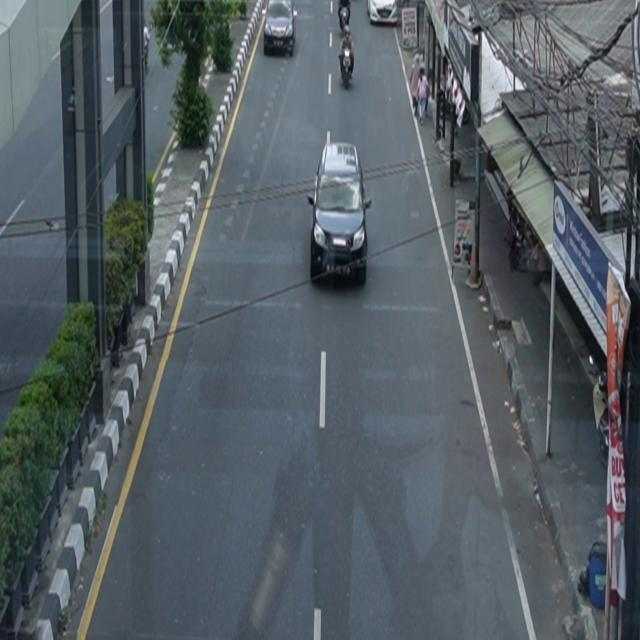car: (308, 140, 373, 287), (264, 1, 297, 57), (367, 1, 398, 26)
